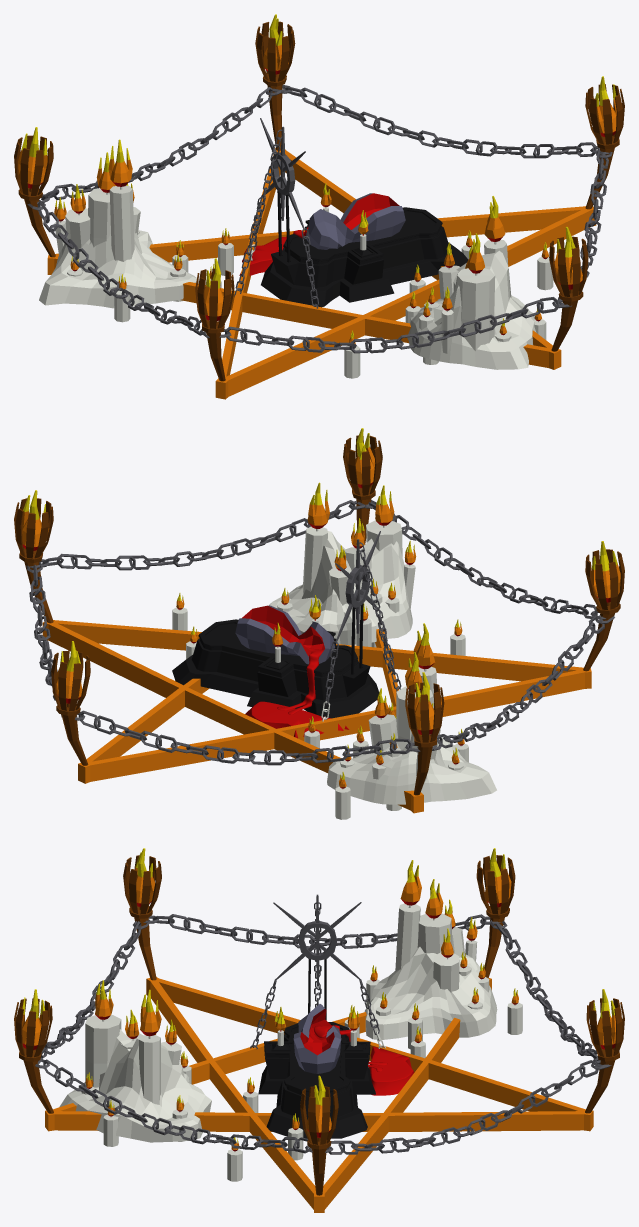
Rendered from ritual_place.fbx.
The picture shows the model from 3 angles, top to bottom: view 1: azimuth 30°, elevation 25°; view 2: azimuth 150°, elevation 25°; view 3: azimuth 270°, elevation 25°; orthographic projection. The views are drawn at different scales.
Visible parts, largest first — view 1: Cube56_default, Cube56_blood; view 2: Cube56_default, Cube56_blood; view 3: Cube56_default, Cube56_blood.
Part boxes in pixels (left/top/right/bottom): Cube56_default: left=14, top=14, right=624, bottom=399; Cube56_blood: left=239, top=226, right=308, bottom=275; Cube56_default: left=14, top=428, right=624, bottom=819; Cube56_blood: left=245, top=647, right=348, bottom=738; Cube56_default: left=14, top=848, right=624, bottom=1212; Cube56_blood: left=313, top=1025, right=414, bottom=1095.
Bounding box in the file's own units: 34.75 × 11.94 × 35.52.
